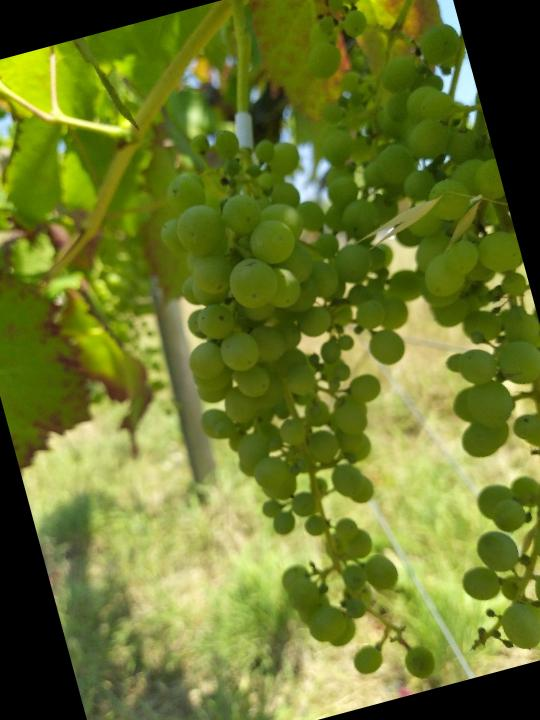grape: (127, 88, 519, 717)
